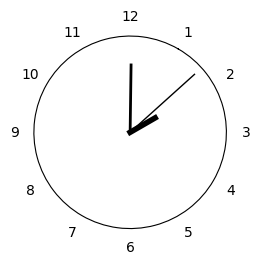12: (122, 9, 139, 23)
circle: (34, 36, 228, 229)
hours: (127, 114, 159, 136)
minutes: (128, 63, 133, 127)
seconds: (137, 74, 195, 126)
